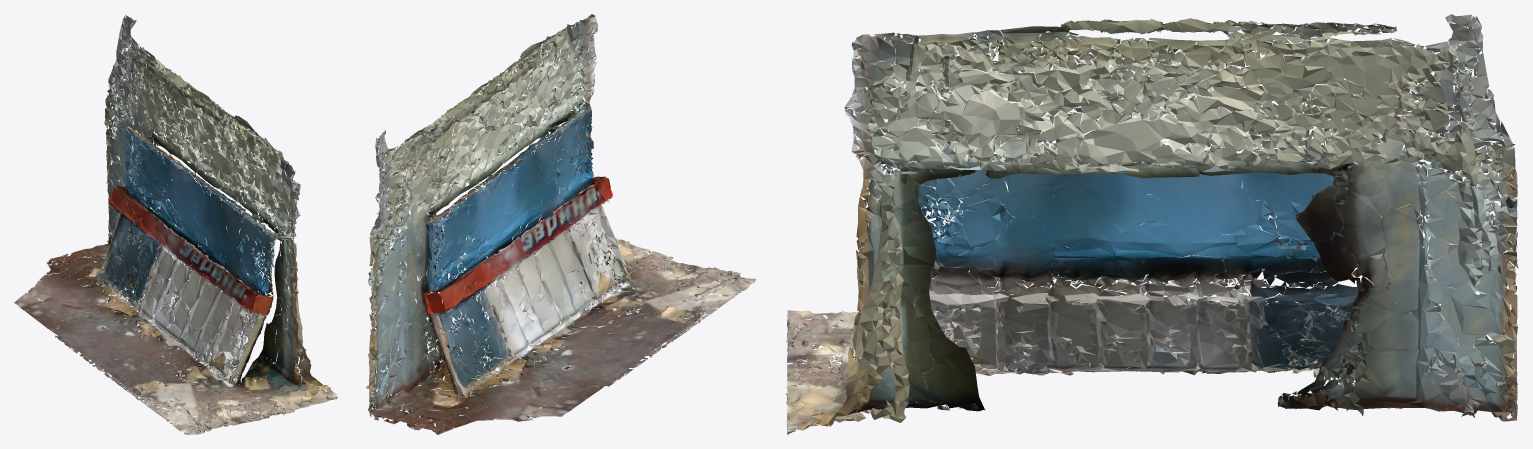
Rendered from eurica.glb.
The picture shows the model from 3 angles, left to right: view 1: azimuth 30°, elevation 25°; view 2: azimuth 150°, elevation 25°; view 3: azimuth 270°, elevation 25°; orthographic projection. The views are drawn at different scales.
Parts seen in each view (by area): view 1: Mesh_0; view 2: Mesh_0; view 3: Mesh_0.
Boxes of the visible parts, bbox=[...] form: Mesh_0: bbox=[14, 15, 337, 434]; Mesh_0: bbox=[366, 14, 756, 434]; Mesh_0: bbox=[786, 14, 1518, 434].
Size of the model in its own units: 1.29 by 2.01 by 3.18.
1 material, 1 textured.
